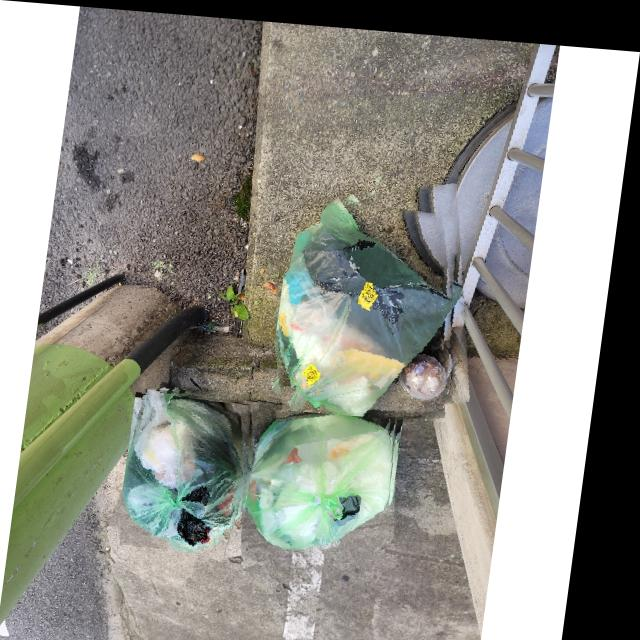general_trashbag: (285, 191, 462, 408), (262, 400, 405, 544), (137, 385, 262, 547), (353, 329, 353, 329)
